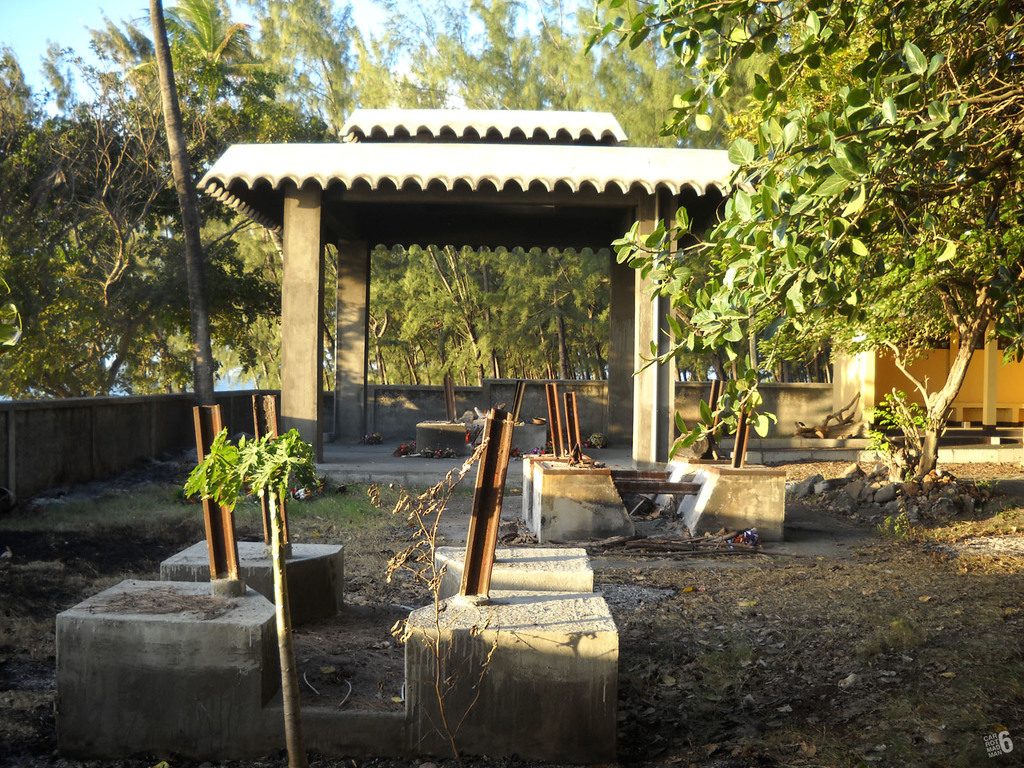Tree: (0, 0, 1024, 496)
